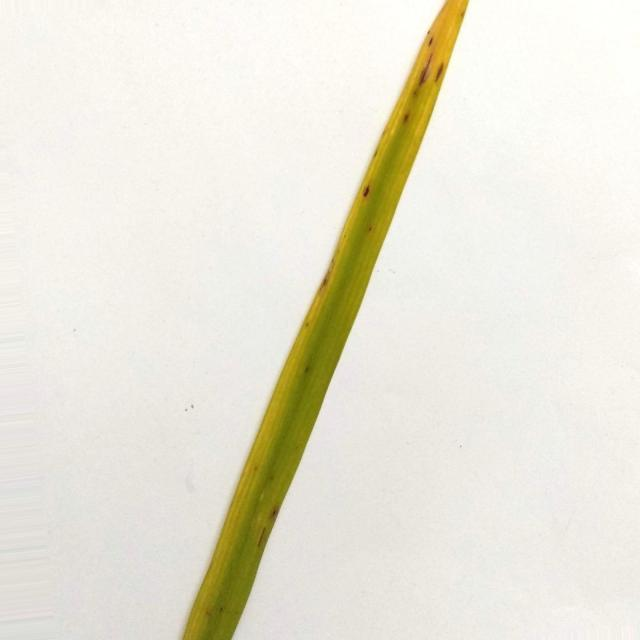Brown_Spot: (318, 270, 331, 292), (422, 55, 432, 81), (435, 61, 446, 81), (258, 528, 269, 546), (304, 362, 315, 376), (271, 505, 281, 520), (410, 82, 420, 96), (459, 8, 466, 26), (218, 605, 228, 616), (401, 110, 411, 121), (362, 185, 370, 196), (368, 221, 375, 232), (429, 34, 435, 46), (255, 461, 261, 472), (270, 472, 275, 484), (304, 320, 310, 327)
